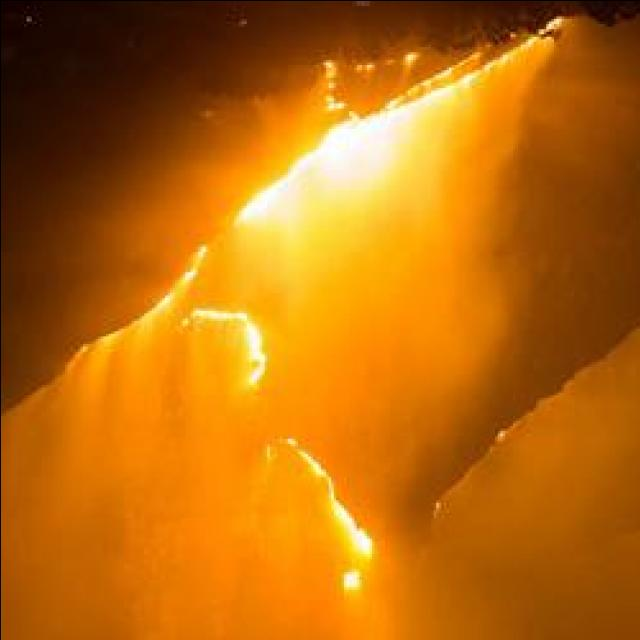fire: (314, 447, 378, 591)
smoke: (283, 111, 405, 355), (72, 348, 208, 478), (428, 252, 532, 384), (462, 83, 554, 186), (196, 74, 318, 146), (361, 0, 449, 50)
